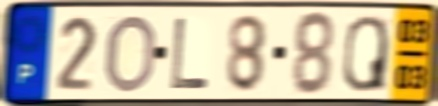2: (53, 14, 99, 93)
8: (290, 8, 338, 98), (226, 11, 270, 95)
L: (168, 16, 212, 92)
O: (102, 12, 158, 96)
Q: (340, 12, 390, 94)
